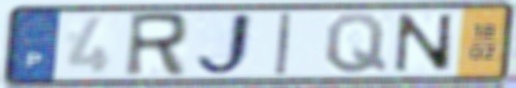4: (63, 13, 117, 78)
I: (273, 11, 295, 77)
J: (192, 10, 257, 79)
N: (392, 12, 455, 74)
Q: (323, 11, 390, 76)
R: (121, 11, 191, 80)
